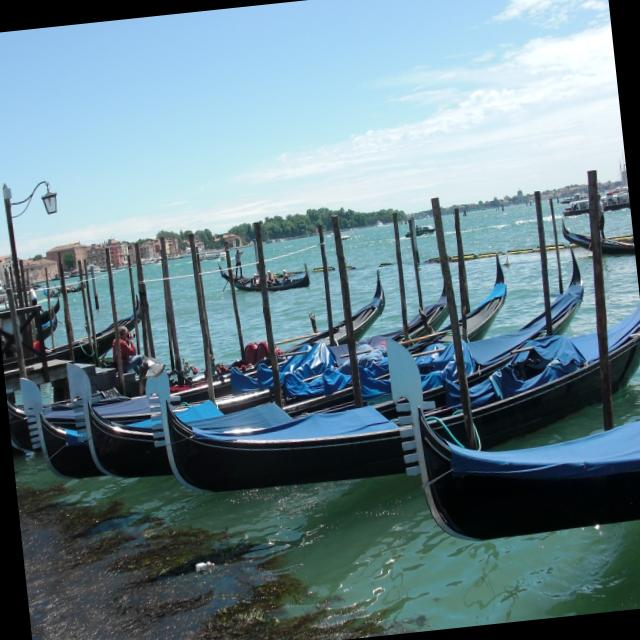boat: (130, 287, 640, 509), (58, 248, 532, 472), (379, 305, 640, 578)
